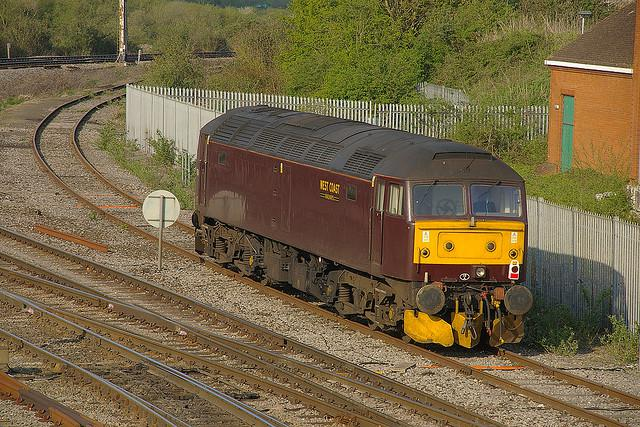Train: (191, 105, 534, 350)
